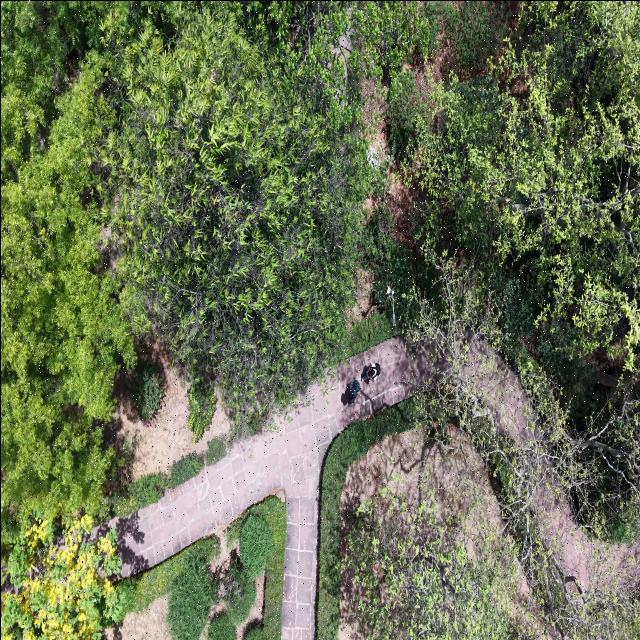DRY_AREA: (97, 338, 438, 639), (99, 338, 439, 639), (102, 337, 439, 639), (339, 425, 557, 639), (341, 426, 504, 559), (108, 340, 230, 480), (531, 465, 639, 598), (532, 467, 639, 595), (117, 373, 230, 479), (109, 350, 200, 479), (104, 595, 173, 639), (104, 596, 172, 639), (236, 572, 265, 639), (237, 573, 265, 639), (347, 270, 376, 328)
PATHWAYS: (95, 338, 440, 639), (100, 338, 411, 639)
VEGETATION_TREE: (1, 1, 639, 638), (1, 3, 364, 540), (381, 3, 639, 638), (3, 4, 364, 422), (387, 3, 639, 537), (318, 257, 638, 638), (103, 5, 364, 433), (355, 3, 638, 387), (388, 3, 639, 369), (413, 258, 638, 638), (1, 1, 134, 547), (409, 71, 639, 368), (1, 55, 134, 538), (350, 3, 450, 330), (342, 487, 518, 639), (105, 497, 286, 639), (317, 400, 414, 639), (1, 1, 107, 184), (1, 516, 120, 639), (567, 383, 639, 543), (108, 537, 220, 639), (209, 497, 286, 639), (100, 438, 226, 516), (106, 438, 226, 516), (362, 201, 433, 332), (112, 537, 220, 622), (351, 1, 446, 82), (247, 497, 286, 639), (440, 1, 509, 80), (167, 546, 218, 639), (386, 69, 434, 159), (108, 473, 167, 516), (345, 313, 396, 356), (240, 514, 273, 579), (221, 564, 256, 625), (132, 363, 163, 422), (188, 378, 216, 441), (166, 454, 204, 489), (208, 616, 236, 639), (205, 438, 226, 465), (244, 626, 267, 639)
